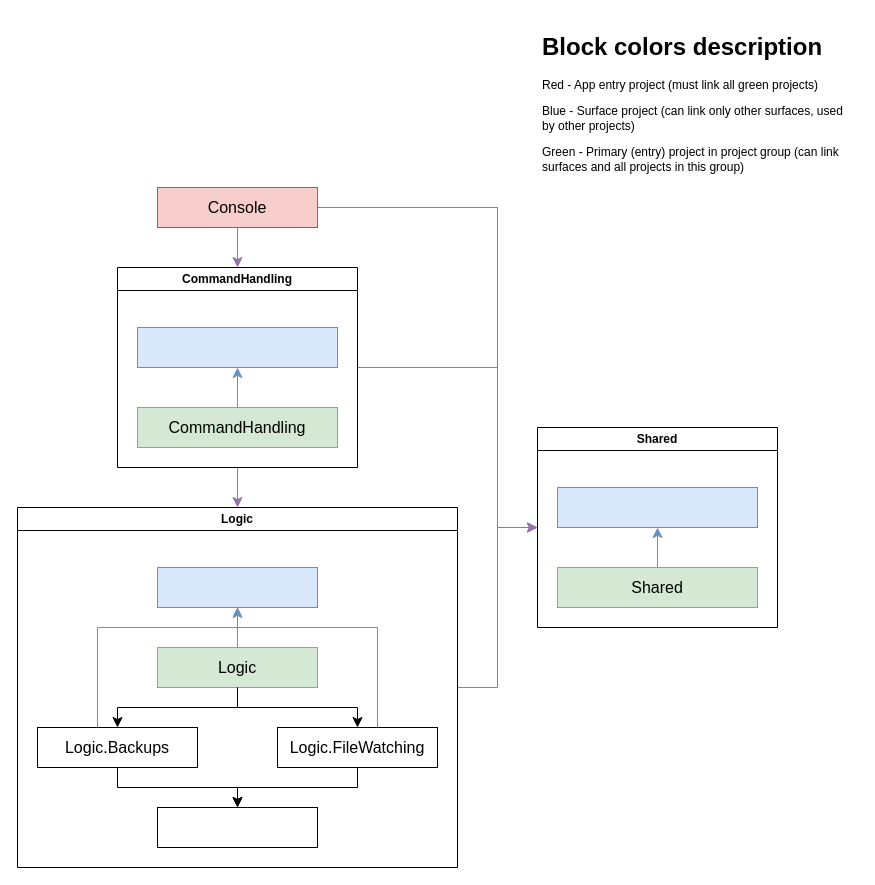
This 875x885 diagram has some shape labels left out. Here are the shapes that lost their labels. From the top down, the centre of each, then its label:
[237,347]: CommandHandling.Surface
[657,507]: Shared.Surface
[237,587]: Logic.Surface
[237,827]: Logic.Utility
